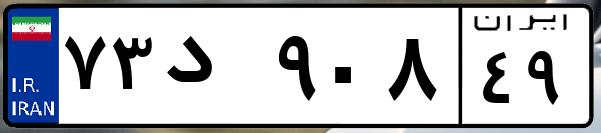0: (330, 28, 385, 110)
3: (110, 28, 158, 98)
4: (475, 38, 525, 113)
7: (57, 26, 110, 100)
8: (385, 28, 445, 110)
9: (270, 28, 330, 110), (525, 38, 570, 115)
د: (158, 20, 270, 120)
